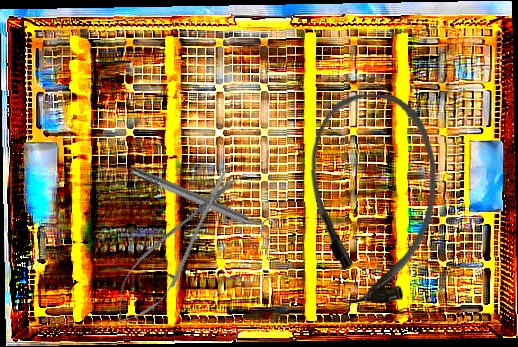Cannula: (308, 93, 438, 305)
Fixation Ring: (127, 158, 281, 244)
Micro Scissor: (100, 158, 251, 337)
